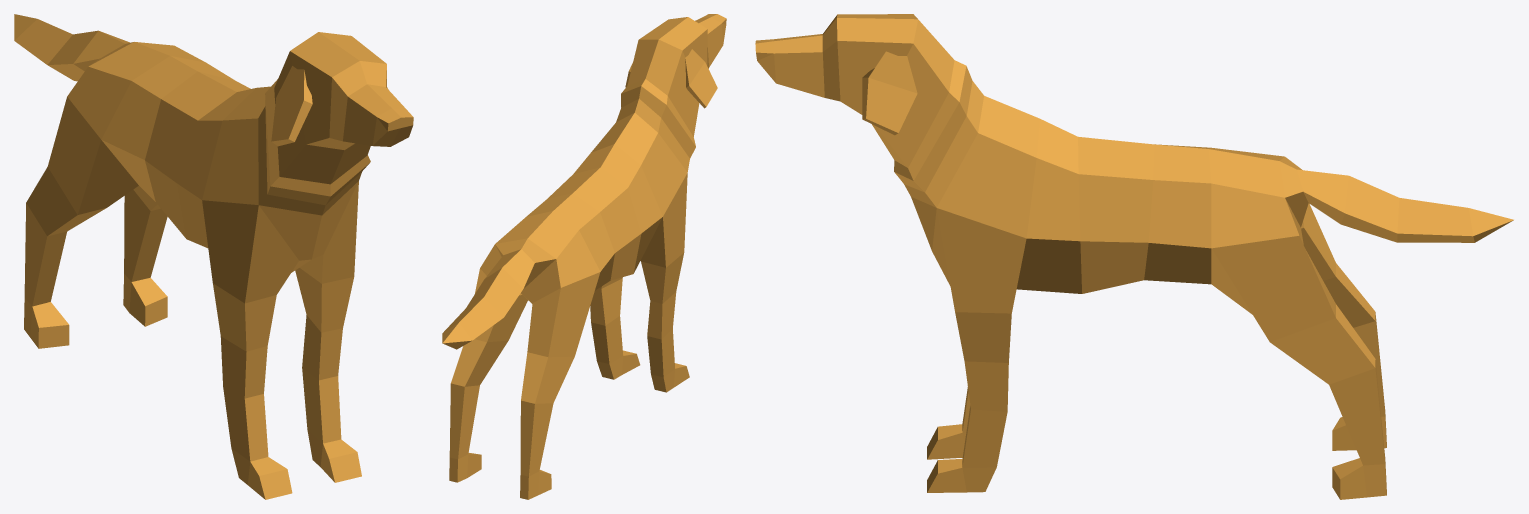
Rendered from dog.fbx.
The picture shows the model from 3 angles, left to right: view 1: azimuth 30°, elevation 25°; view 2: azimuth 150°, elevation 25°; view 3: azimuth 270°, elevation 25°; orthographic projection. The views are drawn at different scales.
Parts seen in each view (by area): view 1: dog; view 2: dog; view 3: dog.
Boxes of the visible parts, <box> form: dog: <box>14,14,413,499</box>; dog: <box>442,14,726,499</box>; dog: <box>755,14,1513,499</box>.
Size of the model in its own units: 0.2006 by 0.6544 by 0.9944.
